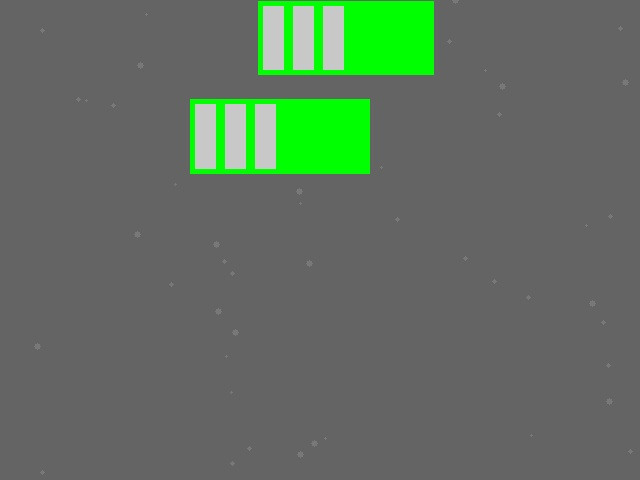bus: (190, 99, 369, 173), (258, 1, 433, 74)
